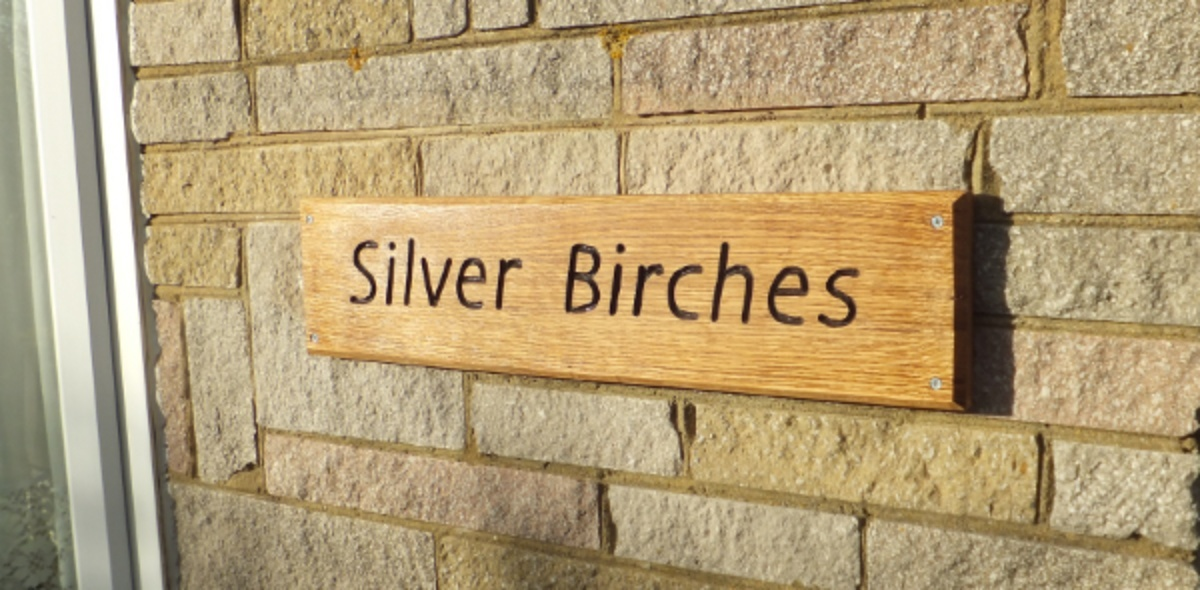text: (577, 231, 592, 331), (593, 231, 608, 331), (609, 231, 624, 331), (625, 231, 640, 331), (641, 231, 656, 331), (657, 231, 672, 331), (673, 231, 688, 331), (689, 231, 704, 331), (705, 231, 720, 331), (721, 231, 736, 331), (737, 231, 752, 331), (753, 231, 768, 331), (769, 231, 784, 331), (785, 231, 800, 331), (801, 231, 816, 331), (817, 231, 832, 331), (833, 231, 848, 331), (849, 231, 861, 331), (369, 235, 384, 311), (385, 235, 400, 311), (401, 235, 416, 311), (417, 235, 432, 311), (433, 235, 448, 311), (449, 235, 464, 311), (465, 235, 480, 311), (481, 235, 496, 311), (497, 235, 512, 311), (355, 235, 368, 311), (513, 235, 523, 311), (571, 231, 576, 331)
